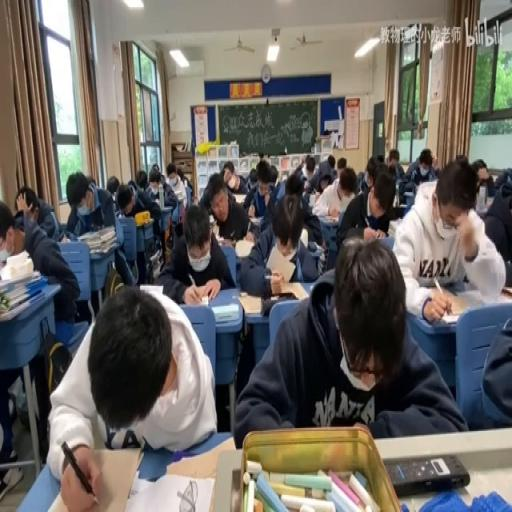calculator: (125, 469, 215, 512), (386, 452, 470, 494), (160, 434, 234, 479), (239, 280, 309, 313), (429, 286, 471, 320), (0, 291, 42, 321), (0, 266, 40, 292), (212, 302, 238, 322), (234, 238, 256, 258), (148, 248, 161, 272), (378, 235, 396, 250), (142, 282, 164, 294), (474, 200, 492, 214), (402, 189, 416, 206), (308, 239, 325, 252), (394, 202, 407, 219), (320, 213, 338, 225), (216, 233, 234, 245), (299, 224, 308, 248), (387, 218, 398, 236), (499, 284, 512, 298), (210, 216, 219, 236), (232, 192, 247, 202), (0, 249, 8, 266), (249, 214, 262, 224), (58, 233, 70, 243)
paper: (236, 239, 462, 445), (48, 286, 218, 509), (391, 159, 506, 319), (238, 189, 325, 292), (158, 200, 232, 303), (334, 165, 400, 253), (117, 176, 165, 270), (477, 308, 512, 426), (66, 169, 114, 238), (13, 185, 59, 242), (484, 186, 512, 266), (402, 145, 438, 196), (163, 160, 187, 206), (219, 158, 248, 195), (468, 158, 493, 199), (110, 246, 134, 286), (107, 192, 124, 246), (199, 176, 215, 210), (285, 168, 304, 196), (363, 158, 378, 189), (338, 171, 354, 199), (493, 169, 512, 192), (273, 179, 287, 205), (134, 168, 148, 190), (106, 175, 118, 199), (148, 164, 161, 186), (302, 183, 316, 202), (146, 182, 160, 199), (247, 166, 258, 186), (268, 165, 277, 185), (126, 176, 136, 194), (305, 155, 314, 174), (388, 148, 398, 163), (85, 175, 95, 189), (388, 161, 397, 176), (337, 155, 346, 169), (327, 155, 336, 169), (182, 175, 191, 189), (166, 169, 174, 182), (455, 152, 466, 161), (430, 154, 437, 168), (376, 154, 384, 164)
